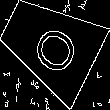O_NW: (21, 13, 79, 76)
